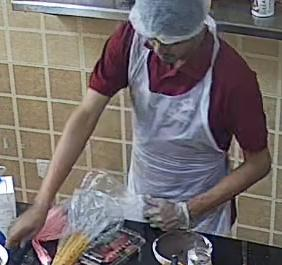apron: (125, 11, 228, 187)
